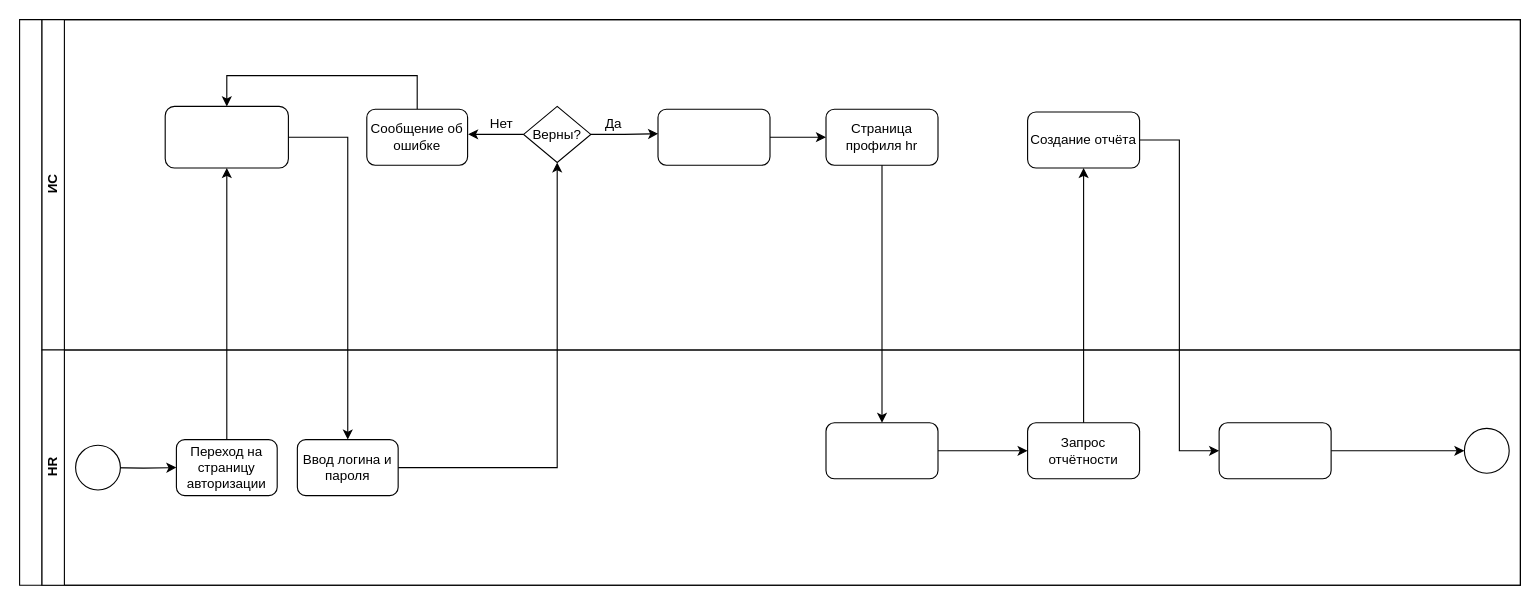
This 1540x605 diagram has some shape labels left out. Here are the shapes that lost their labels. From the top down, the centre of each, then its label:
the point at 226,136: Предоставление интерфейса авторизации
the point at 713,136: Предоставление соответствующих прав
the point at 881,450: Выбор вакансии
the point at 1274,450: Получение отчёта
